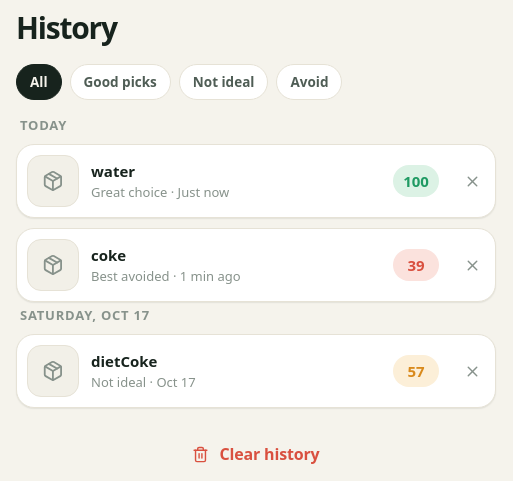
Test: <History /> › filters by verdict
The image size is (513, 481).
What coordinates should you click on to do the following:
click the button "Avoid"
I would click on:
 (309, 82)
Its box is [276,64,342,100].
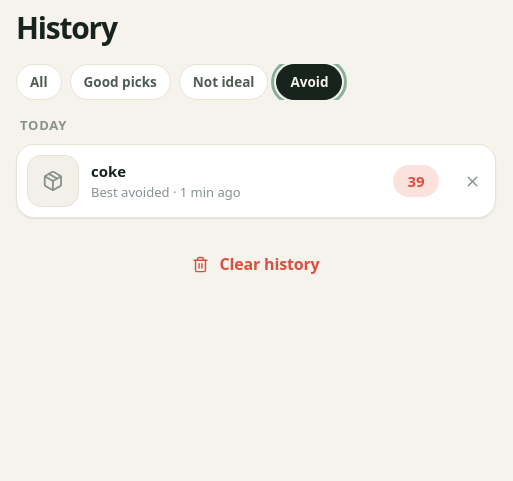
Expected: the text "coke" is shown, [91,161,126,181]
Expected: the number of list items is 1, [16,144,496,218]
What coordinates should you click on to do the following:
click the button "Good picks"
I would click on:
 (120, 82)
Its box is [70,64,171,100].
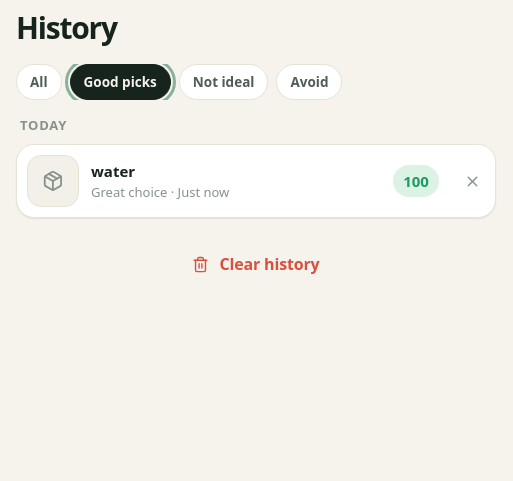
Expected: the text "water" is shown, [91,161,135,181]
